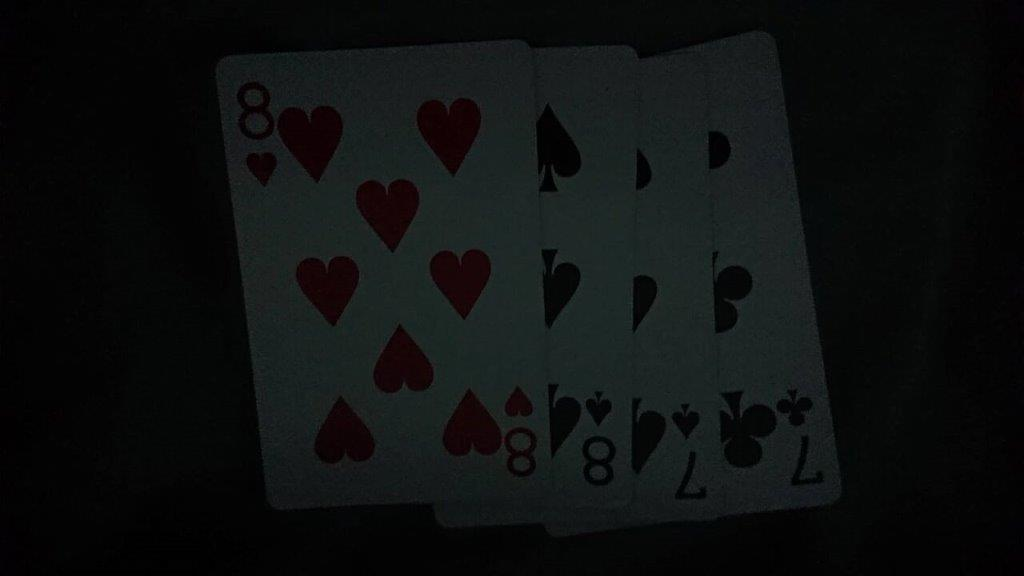7C: (725, 30, 844, 519)
7S: (638, 52, 727, 526)
8H: (209, 36, 557, 513)
8S: (552, 40, 643, 512)
